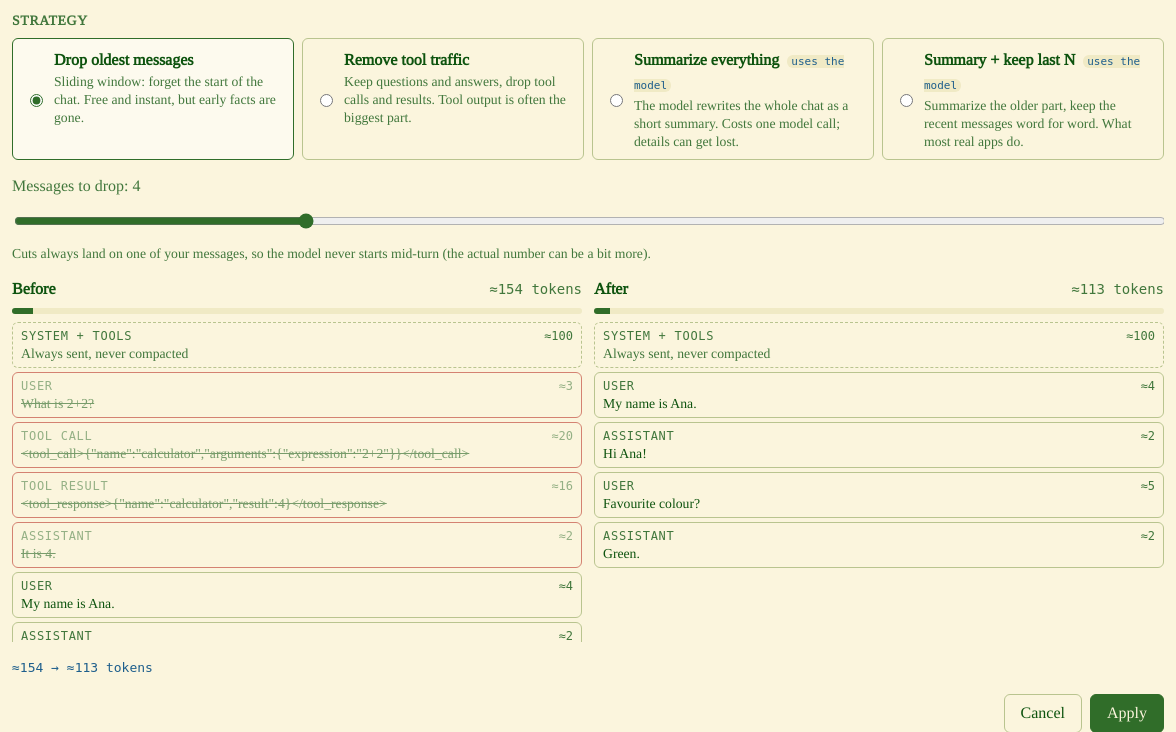
in-browser model: hint only on the summarize strategies
Click the radio button labelled "Summarize everything": click(616, 100) 610,50 -> 623,151
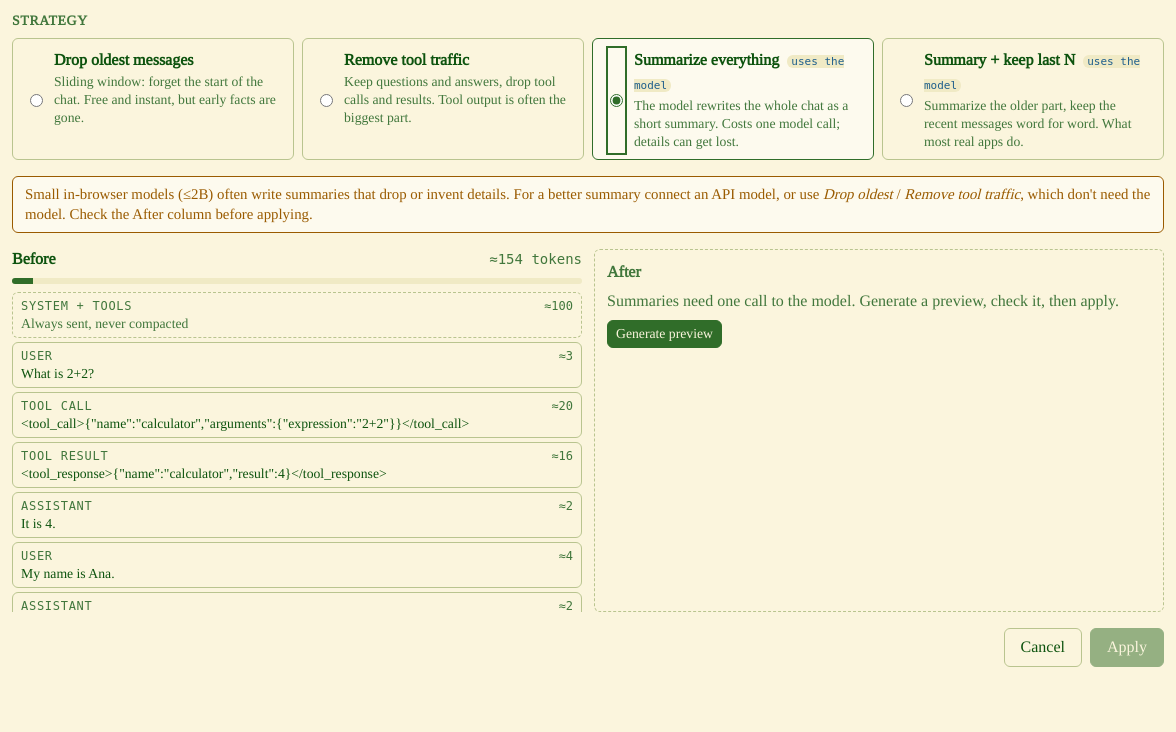
expect the text "Small in-browser models" is shown: met, box 25,186 -> 819,203
